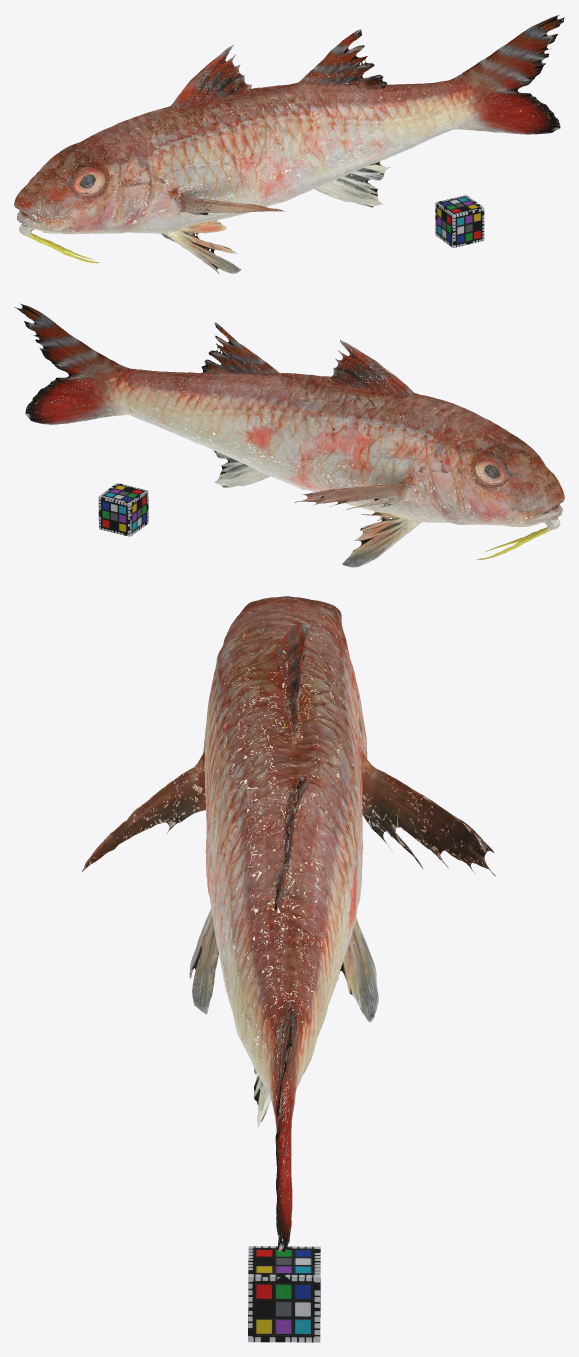
Rendered from scan_goatfish.glb.
3 views of the same model, one above another, from view 1: azimuth 30°, elevation 25°; view 2: azimuth 150°, elevation 25°; view 3: azimuth 270°, elevation 25° (orthographic). The views are drawn at different scales.
Parts seen in each view (by area): view 1: Object_7, Object_13, Object_4, Object_6; view 2: Object_7, Object_13, Object_4, Object_6; view 3: Object_7, Object_13, Object_4.
Boxes of the visible parts, bbox=[...] form: Object_7: bbox=[14, 14, 561, 274]; Object_13: bbox=[14, 16, 564, 273]; Object_4: bbox=[435, 195, 484, 248]; Object_6: bbox=[19, 225, 98, 263]; Object_7: bbox=[15, 303, 563, 567]; Object_13: bbox=[14, 304, 564, 567]; Object_4: bbox=[98, 483, 148, 536]; Object_6: bbox=[476, 518, 560, 559]; Object_7: bbox=[82, 596, 495, 1251]; Object_13: bbox=[82, 596, 495, 1251]; Object_4: bbox=[248, 1246, 320, 1342].
Size of the model in its own units: 9.91 by 4.2 by 3.25.
Materials: 4 (4 with a texture image).
